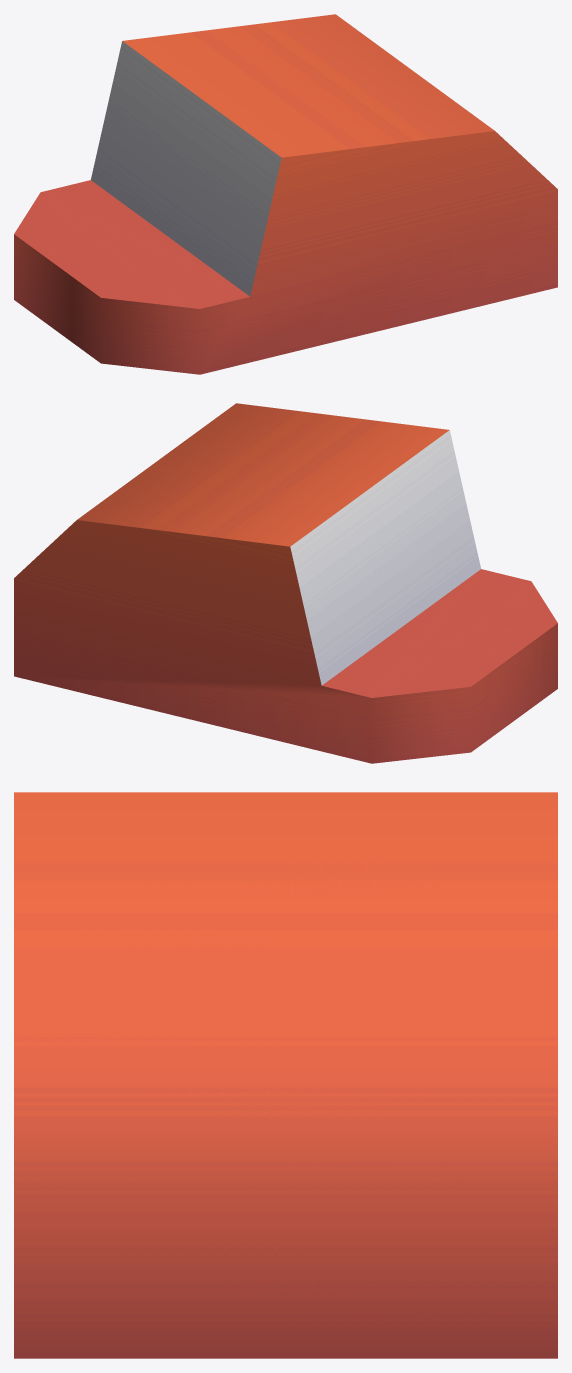
Rendered from prototype-kit--hat-cap.glb.
The picture shows the model from 3 angles, top to bottom: view 1: azimuth 30°, elevation 25°; view 2: azimuth 150°, elevation 25°; view 3: azimuth 270°, elevation 25°; orthographic projection. The views are drawn at different scales.
Parts seen in each view (by area): view 1: hat-cap; view 2: hat-cap; view 3: hat-cap.
Part boxes in pixels (<box>): hat-cap: <box>14,14,557,374</box>; hat-cap: <box>14,403,557,763</box>; hat-cap: <box>14,792,557,1358</box>.
Size of the model in its own units: 0.335 by 0.15 by 0.22.
1 material, 1 textured.
